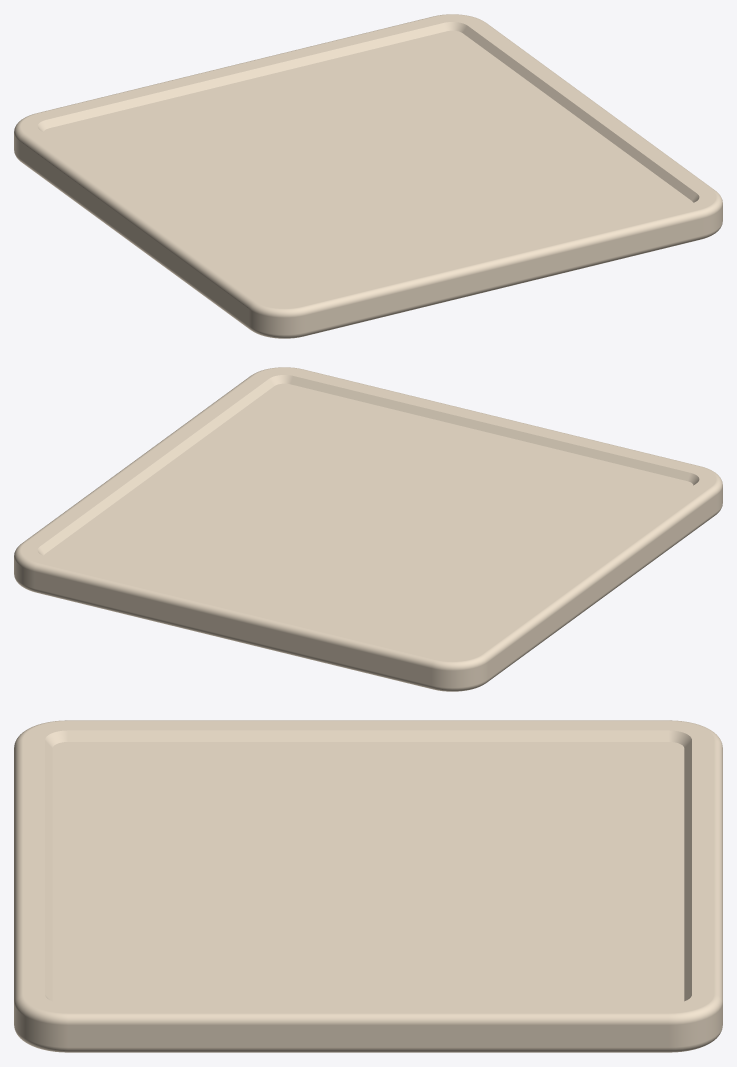
Rendered from board.glb.
3 renders of one model, top to bottom at view 1: azimuth 30°, elevation 25°; view 2: azimuth 150°, elevation 25°; view 3: azimuth 270°, elevation 25°, orthographic. The views are drawn at different scales.
Parts seen in each view (by area): view 1: geometry_0; view 2: geometry_0; view 3: geometry_0.
Boxes of the visible parts, x1,y1,x2,y2 form: geometry_0: (14, 14, 722, 338); geometry_0: (14, 367, 722, 691); geometry_0: (14, 720, 722, 1052).
Bounding box in the file's own units: 5.5 × 0.33 × 5.5.
